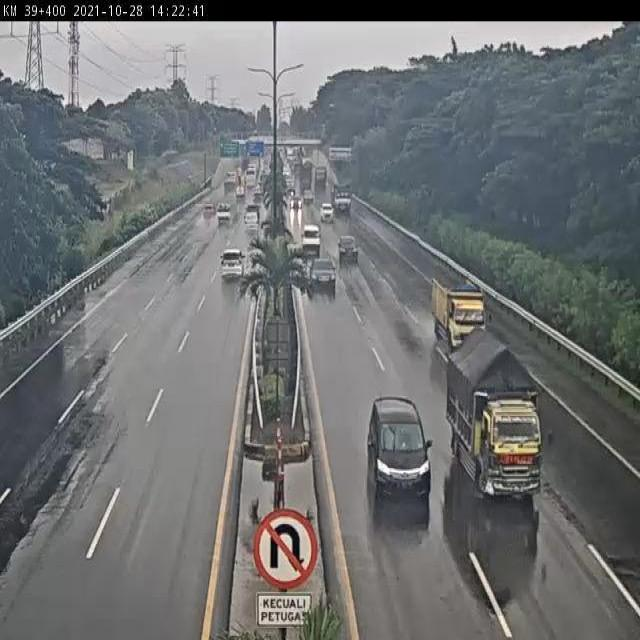car: (364, 392, 432, 501), (218, 246, 246, 282), (311, 257, 338, 291), (337, 232, 359, 261), (300, 223, 321, 253), (216, 203, 233, 224), (244, 210, 261, 230), (201, 203, 216, 221)
small truck: (444, 326, 546, 498), (431, 273, 490, 347)
